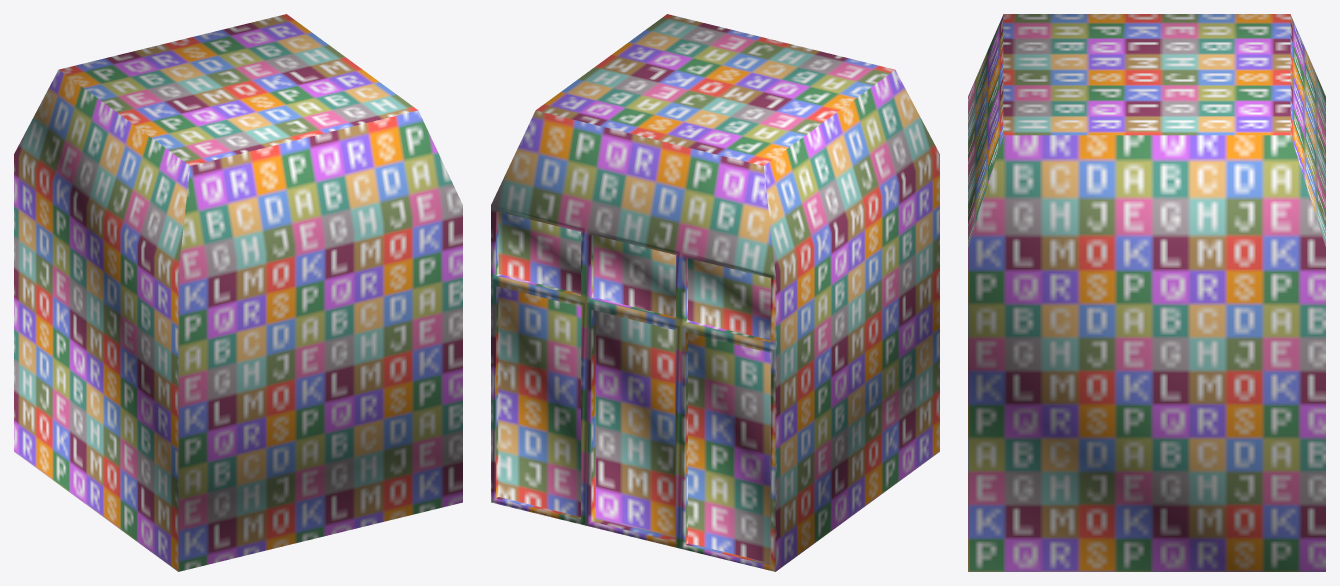
Rendered from building_18.obj.
3 views of the same model, side by side, from view 1: azimuth 30°, elevation 25°; view 2: azimuth 150°, elevation 25°; view 3: azimuth 270°, elevation 25° (orthographic). The views are drawn at different scales.
Parts seen in each view (by area): view 1: Cube3_copy12; view 2: Cube3_copy12; view 3: Cube3_copy12.
Part boxes in pixels (x1,y1,x2,y2): Cube3_copy12: [14, 14, 462, 571]; Cube3_copy12: [491, 14, 939, 571]; Cube3_copy12: [968, 14, 1325, 571].
Bounding box in the file's own units: 274 × 356 × 274.
